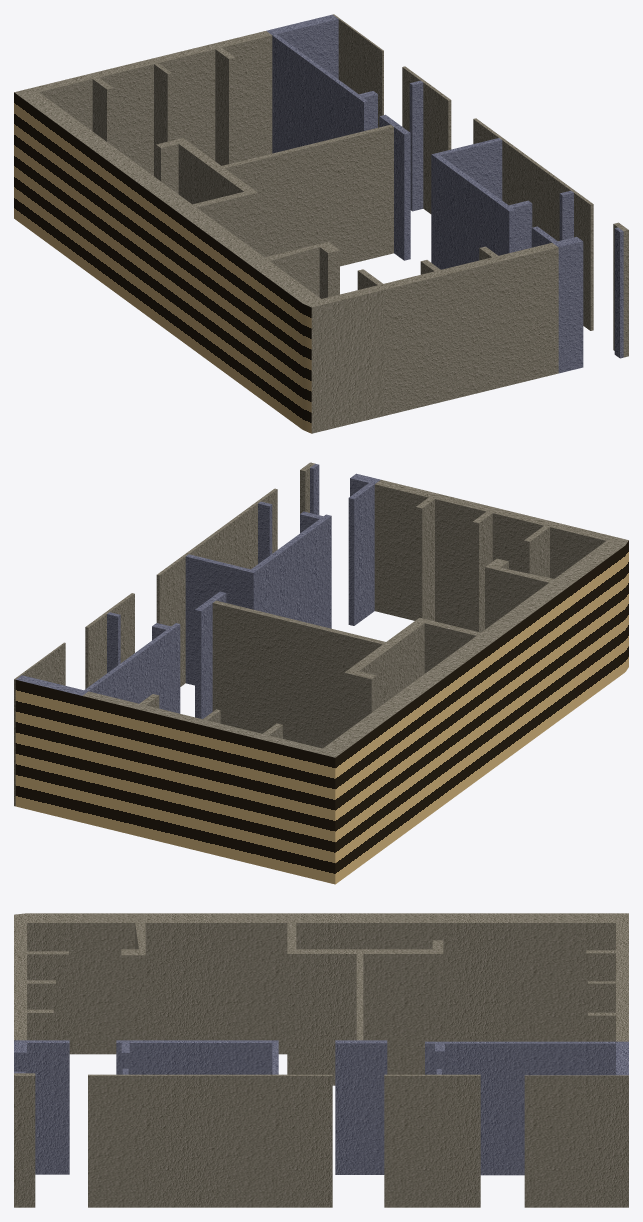
The model's file is salles_f2.obj.
The picture shows the model from 3 angles, top to bottom: view 1: azimuth 30°, elevation 25°; view 2: azimuth 150°, elevation 25°; view 3: azimuth 270°, elevation 25°; orthographic projection. The views are drawn at different scales.
Visible parts, largest first — view 1: salles_f2_Cube_Cube.036; view 2: salles_f2_Cube_Cube.036; view 3: salles_f2_Cube_Cube.036.
Boxes of the visible parts, x1=… form: salles_f2_Cube_Cube.036: x1=14, y1=14, x2=628, y2=433; salles_f2_Cube_Cube.036: x1=14, y1=462, x2=628, y2=884; salles_f2_Cube_Cube.036: x1=14, y1=913, x2=628, y2=1207.
Bounding box in the file's own units: 5.98 × 2.25 × 9.54.
